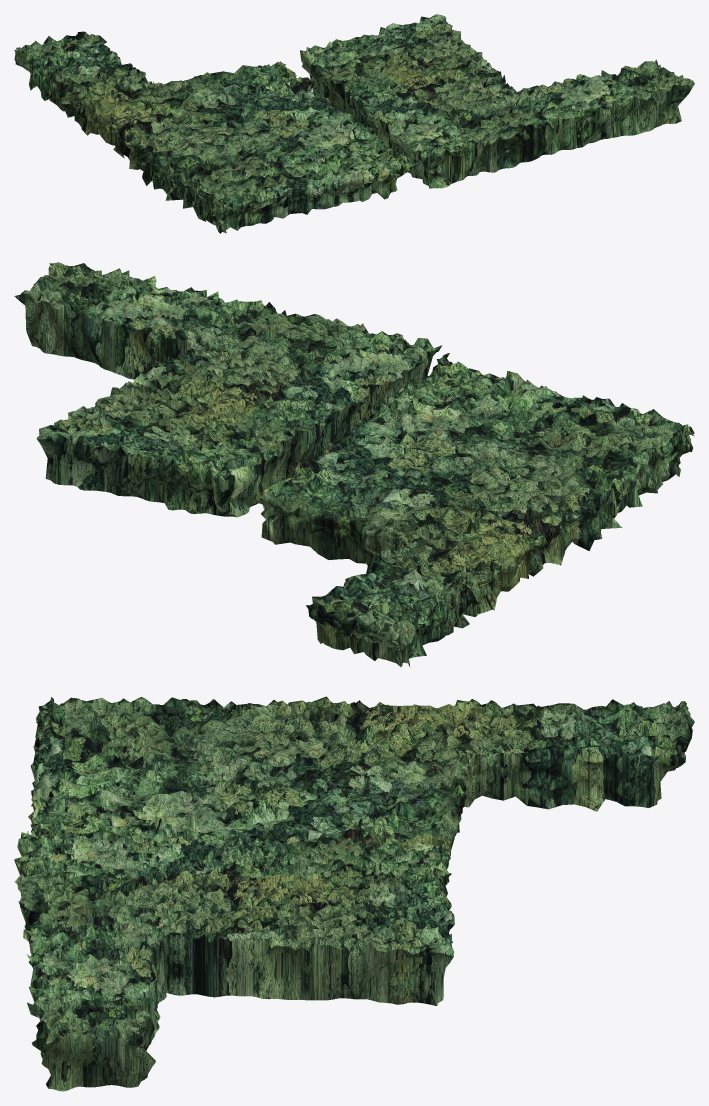
The model's file is tree.FBX.
3 renders of one model, top to bottom at view 1: azimuth 30°, elevation 25°; view 2: azimuth 150°, elevation 25°; view 3: azimuth 270°, elevation 25°, orthographic. The views are drawn at different scales.
Parts seen in each view (by area): view 1: Line001_Retopo_Retopo_Retopo, Line002_Retopo; view 2: Line001_Retopo_Retopo_Retopo, Line002_Retopo; view 3: Line001_Retopo_Retopo_Retopo, Line002_Retopo.
Boxes of the visible parts, x1,y1,x2,y2 form: Line001_Retopo_Retopo_Retopo: (14, 31, 420, 233); Line002_Retopo: (300, 14, 694, 188); Line001_Retopo_Retopo_Retopo: (253, 353, 694, 667); Line002_Retopo: (14, 262, 442, 517); Line001_Retopo_Retopo_Retopo: (27, 696, 694, 855); Line002_Retopo: (14, 832, 454, 1091).
Size of the model in its own units: 1935 by 189 by 1559.
1 material, 1 textured.
